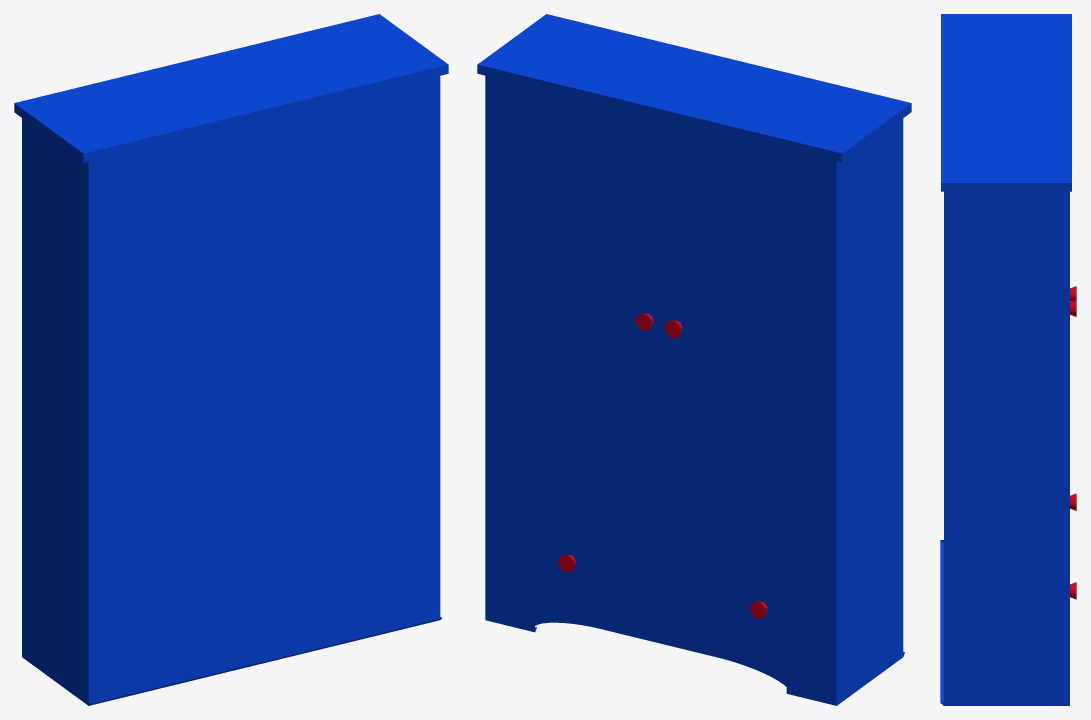
File: Adult_Wardrobe.fbx
3 views of the same model, side by side, from view 1: azimuth 30°, elevation 25°; view 2: azimuth 150°, elevation 25°; view 3: azimuth 270°, elevation 25° (orthographic). The views are drawn at different scales.
Parts seen in each view (by area): view 1: Kids-Chest-of-Drawers.001; view 2: Kids-Chest-of-Drawers.001; view 3: Kids-Chest-of-Drawers.001.
Boxes of the visible parts, bbox=[...] form: Kids-Chest-of-Drawers.001: bbox=[14, 14, 448, 705]; Kids-Chest-of-Drawers.001: bbox=[477, 14, 911, 705]; Kids-Chest-of-Drawers.001: bbox=[940, 14, 1076, 705].
Bounding box in the file's own units: 950 × 1379 × 325.
